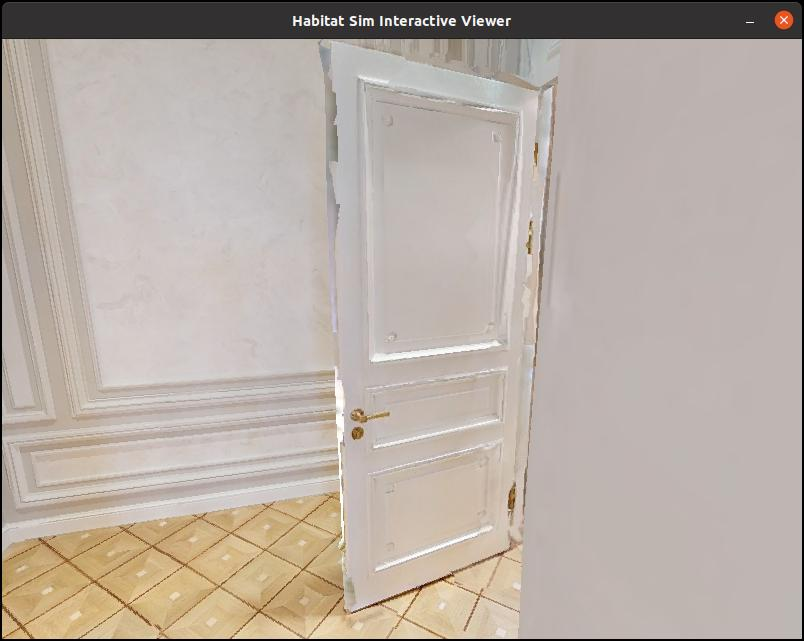door: (321, 38, 550, 623)
